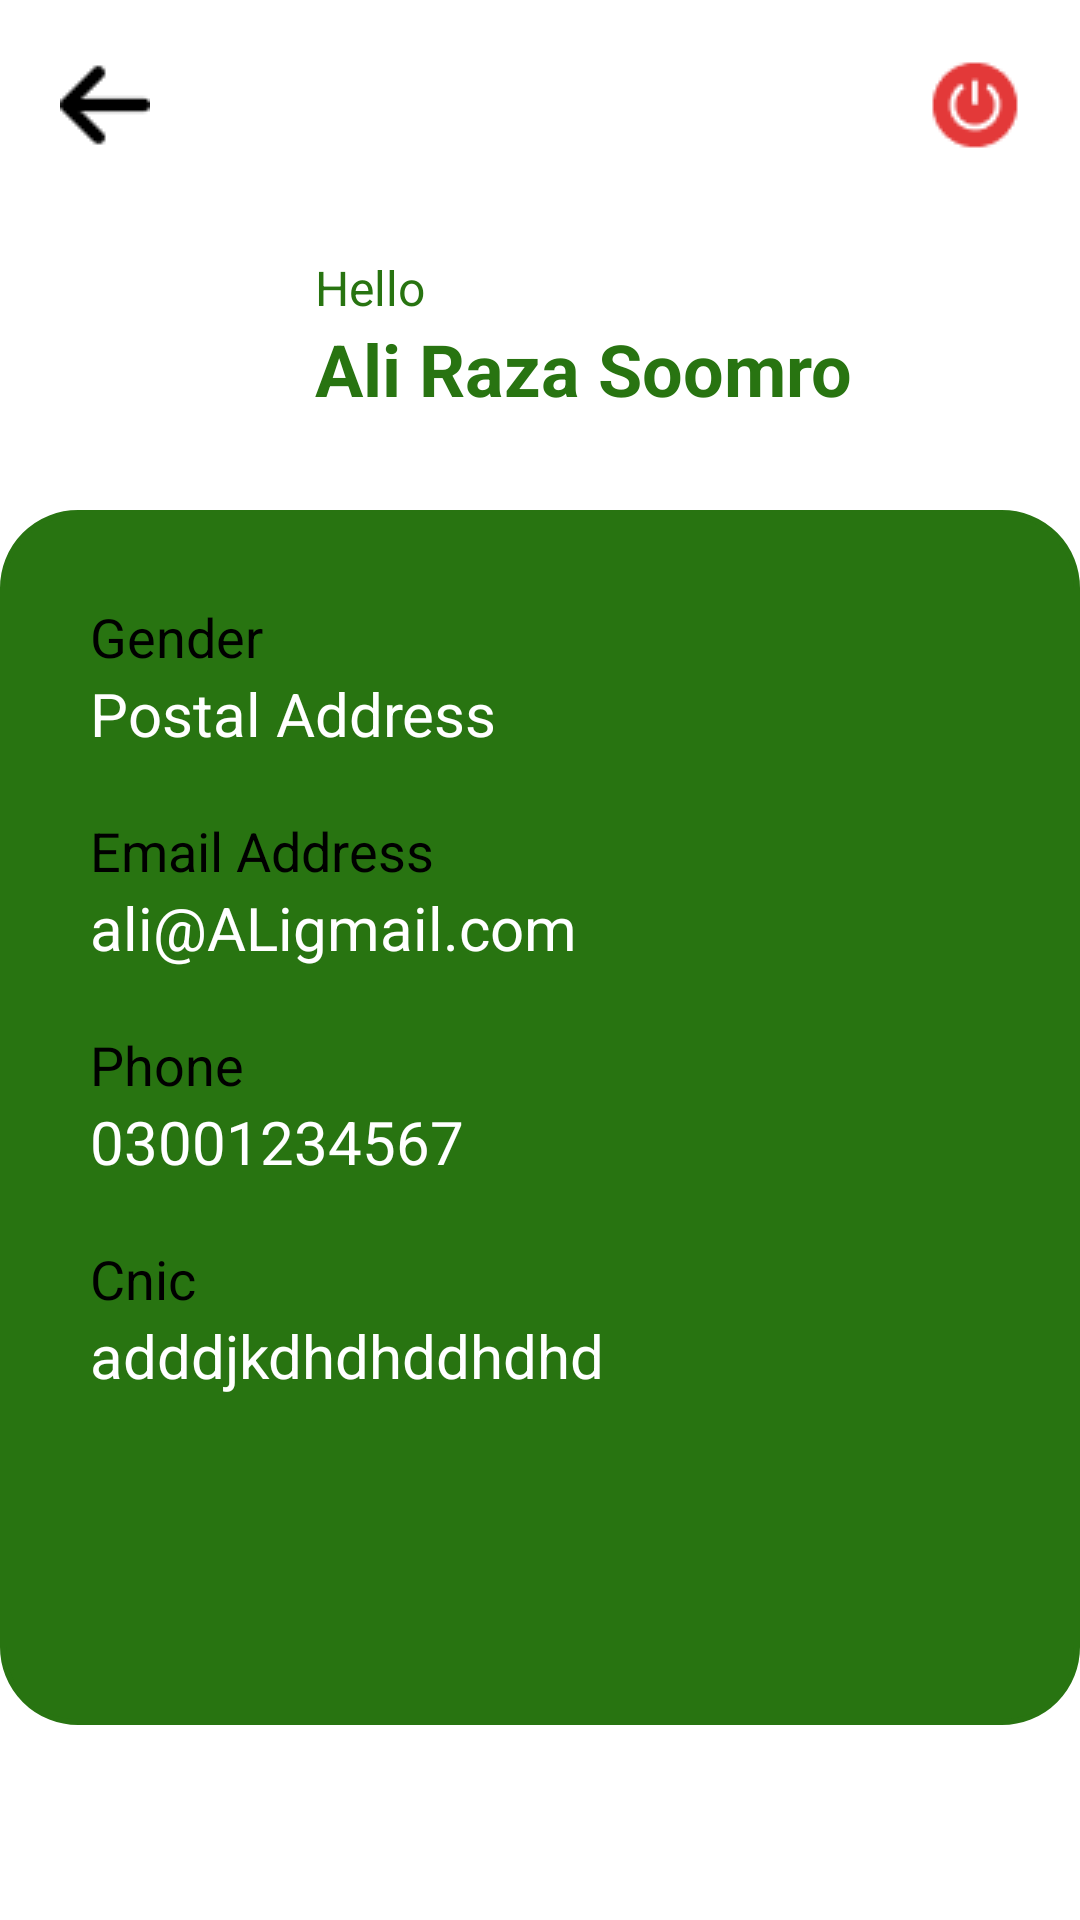

Screen size 1080 × 1920. Icon name, then its box in pixels as (x1, y1, x2, y2):
back: (60, 65, 150, 145)
